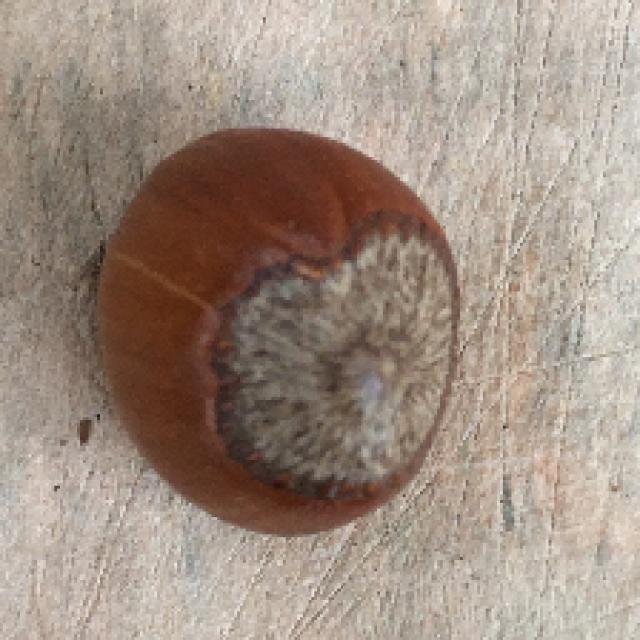qualityHazelnut: (94, 121, 465, 542)
